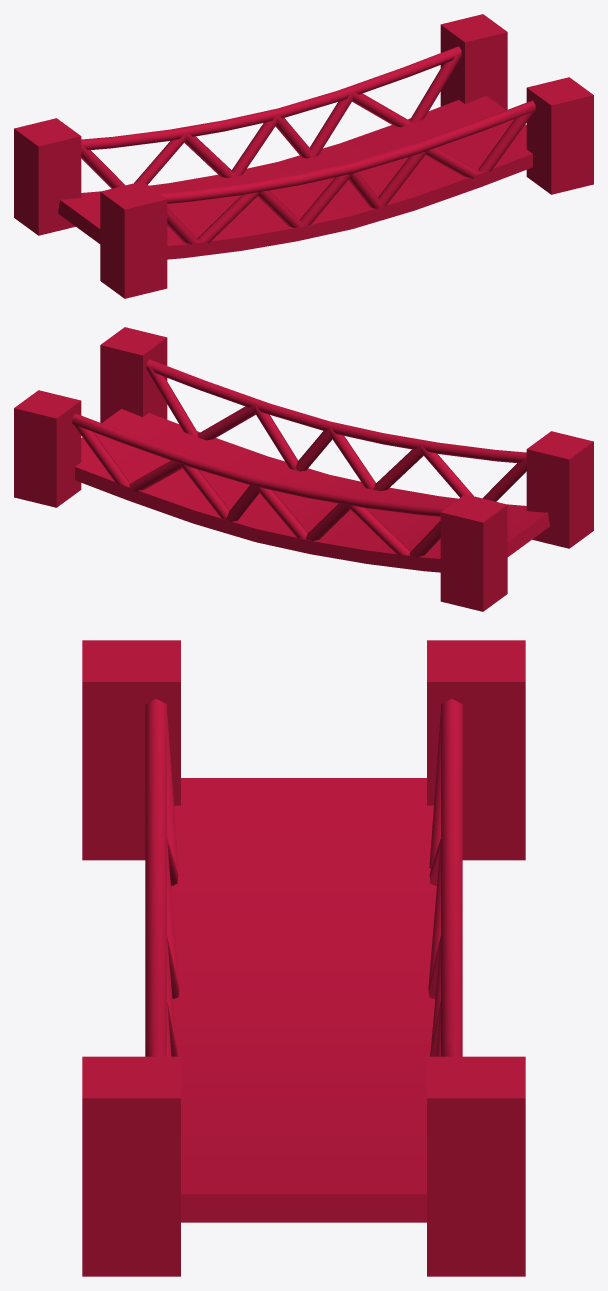
File: Bridge_simple.FBX
3 renders of one model, top to bottom at view 1: azimuth 30°, elevation 25°; view 2: azimuth 150°, elevation 25°; view 3: azimuth 270°, elevation 25°, orthographic. The views are drawn at different scales.
Parts seen in each view (by area): view 1: Bridge_base_simple, Bridge, Bridge_ropes; view 2: Bridge_base_simple, Bridge, Bridge_ropes; view 3: Bridge, Bridge_base_simple, Bridge_ropes.
Part boxes in pixels (left/top/right/bottom): Bridge_base_simple: left=14, top=14, right=593, bottom=298; Bridge: left=58, top=96, right=532, bottom=259; Bridge_ropes: left=81, top=46, right=535, bottom=244; Bridge_base_simple: left=14, top=327, right=593, bottom=611; Bridge: left=75, top=409, right=549, bottom=572; Bridge_ropes: left=72, top=359, right=526, bottom=557; Bridge: left=171, top=778, right=436, bottom=1222; Bridge_base_simple: left=82, top=640, right=525, bottom=1276; Bridge_ropes: left=145, top=698, right=462, bottom=1056.
Size of the model in its own units: 1100 by 450 by 209.
